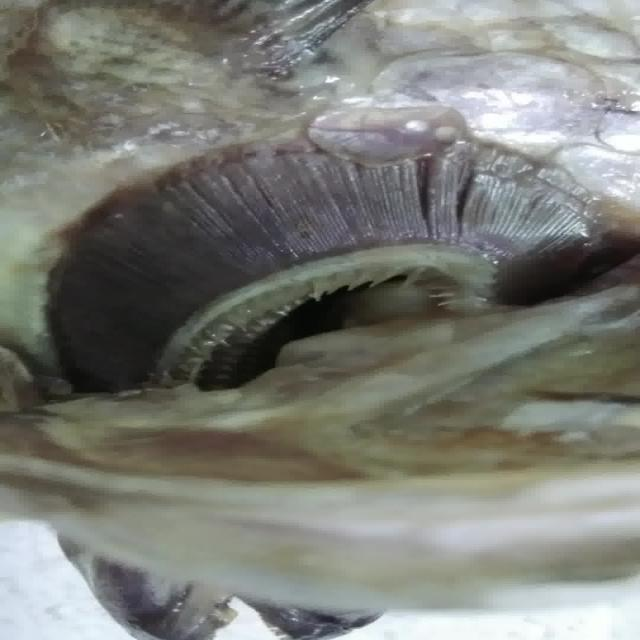Non-Fresh: (23, 132, 590, 342)
